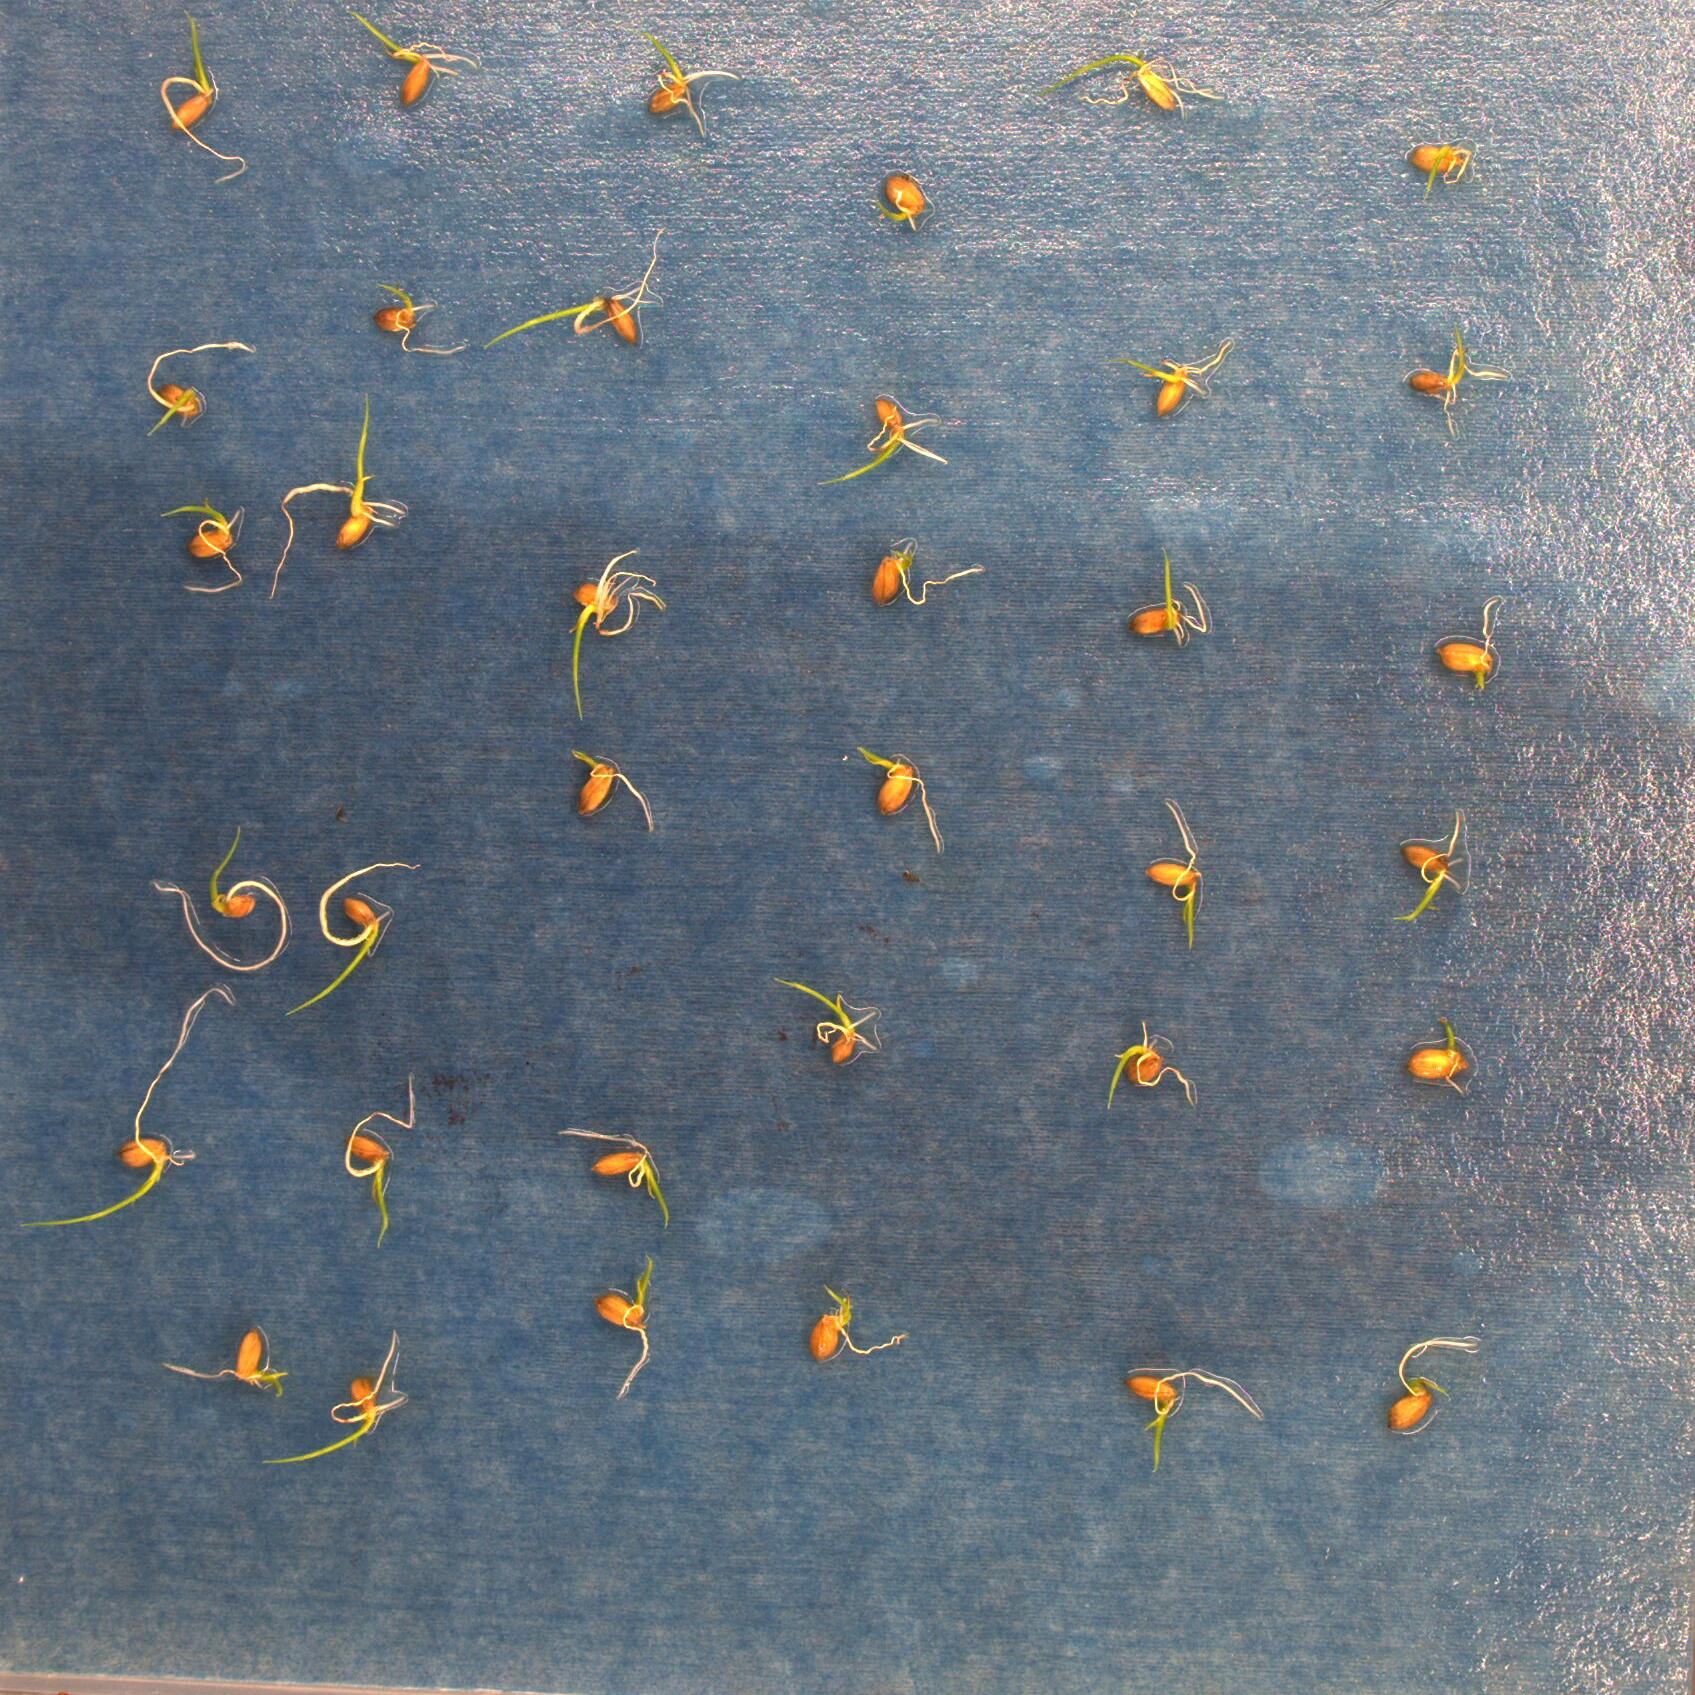not sprout: (365, 272, 455, 376), (1406, 130, 1482, 202), (875, 168, 947, 236)
sprout: (12, 981, 250, 1236), (267, 390, 422, 618), (477, 220, 685, 366), (275, 849, 424, 1021), (248, 1327, 411, 1478), (147, 830, 296, 973), (335, 1069, 442, 1256), (556, 1091, 681, 1229), (567, 542, 664, 719), (1042, 48, 1226, 137), (154, 20, 253, 183), (154, 328, 261, 473), (1133, 1357, 1257, 1478), (818, 386, 955, 492), (332, 8, 466, 112), (1113, 324, 1242, 432), (846, 730, 947, 860), (1138, 798, 1226, 944), (768, 969, 889, 1074), (798, 1277, 922, 1377), (632, 51, 742, 157), (868, 529, 990, 622), (590, 1260, 671, 1399), (174, 472, 250, 618), (1388, 1340, 1481, 1458), (1402, 809, 1485, 933), (1102, 1007, 1200, 1110), (1124, 553, 1220, 657), (1409, 338, 1506, 436), (171, 1322, 309, 1385), (1403, 1031, 1496, 1110), (567, 740, 649, 826), (1434, 605, 1507, 692)
